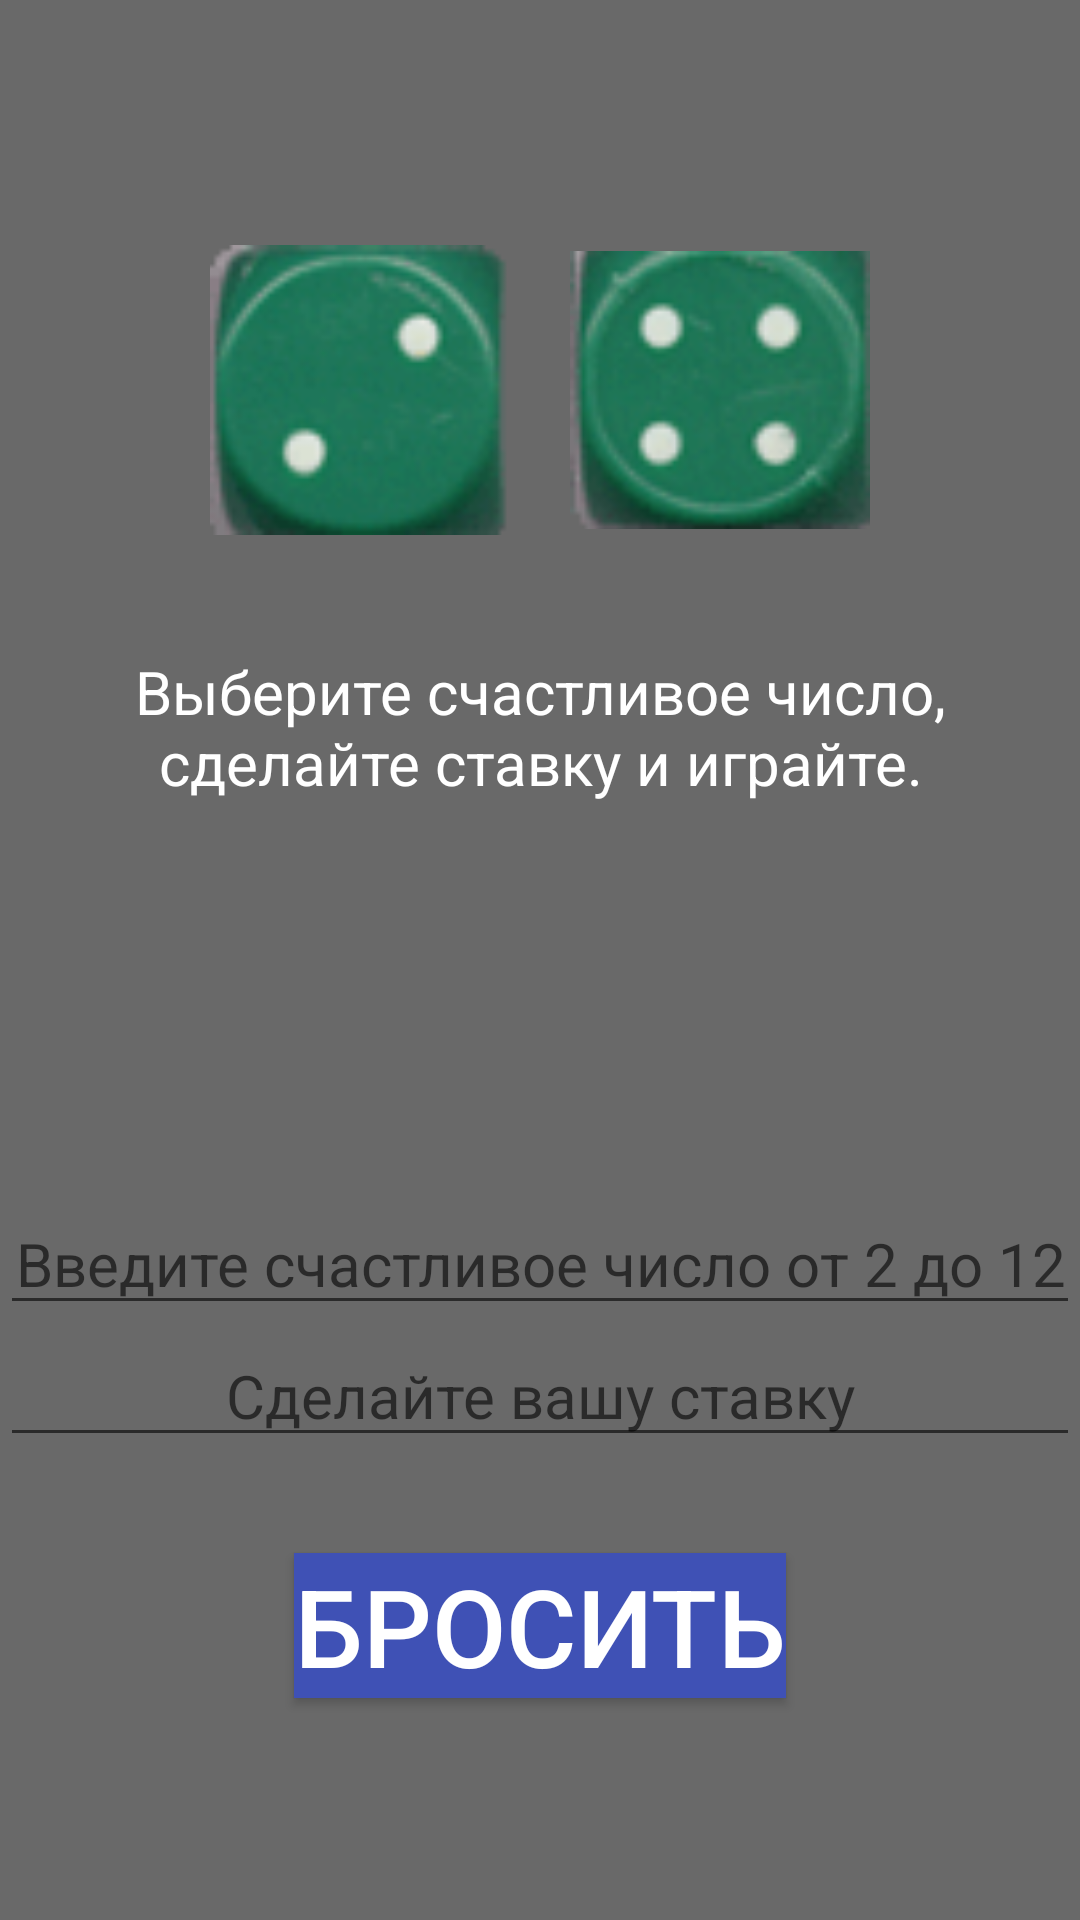

Icon bounding boxes for this 1080×1920 phone screenshot, format (x1, y1, x2, y2):
dice: (210, 245, 504, 535), (570, 251, 870, 529)
